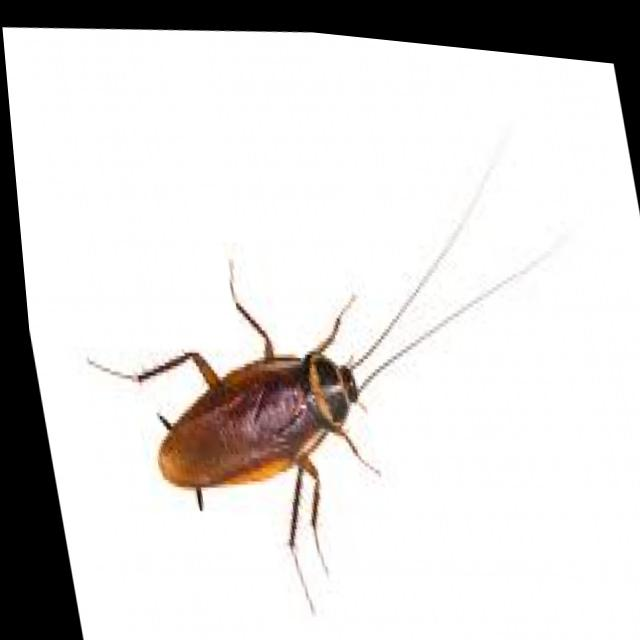Cockroach: (36, 84, 632, 640)
